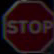Stop: (6, 5, 51, 46)
